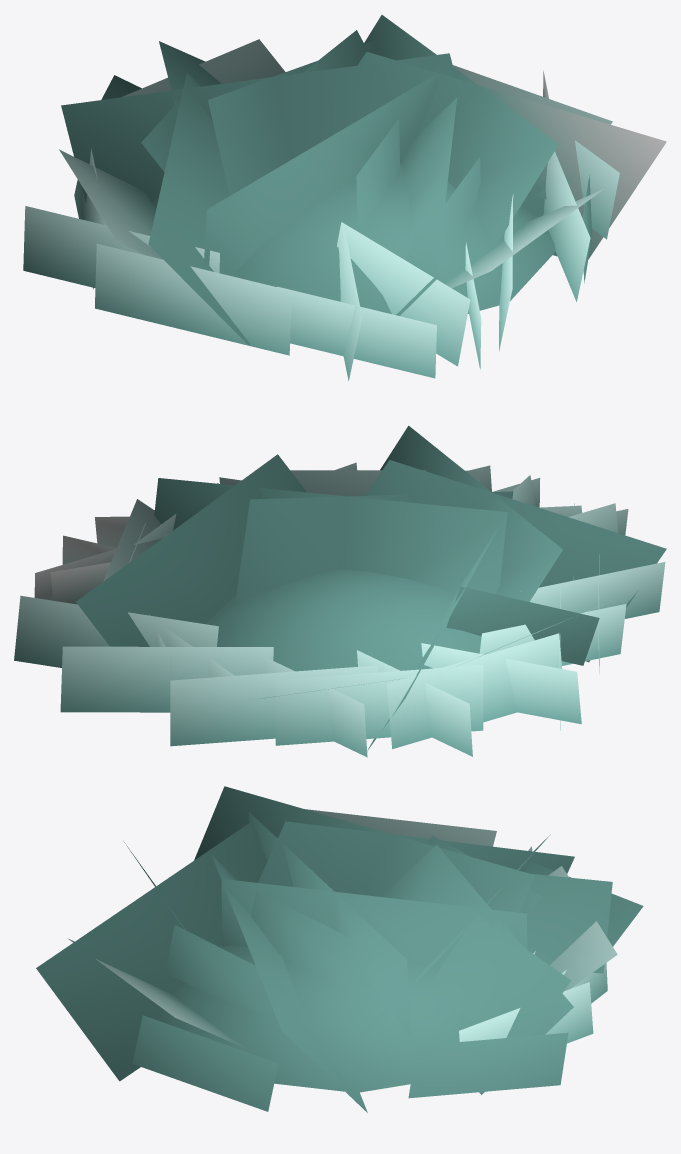
File: grass-mound.glb
3 views of the same model, one above another, from view 1: azimuth 30°, elevation 25°; view 2: azimuth 150°, elevation 25°; view 3: azimuth 270°, elevation 25° (orthographic). The views are drawn at different scales.
Parts seen in each view (by area): view 1: grass-mound; view 2: grass-mound; view 3: grass-mound.
Boxes of the visible parts, <box> form: grass-mound: <box>23,15,666,380</box>; grass-mound: <box>14,425,666,757</box>; grass-mound: <box>36,786,643,1112</box>.
Size of the model in its own units: 3.5 by 0.947 by 3.57.
